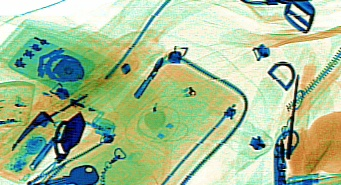lighter: (40, 84, 117, 136)
